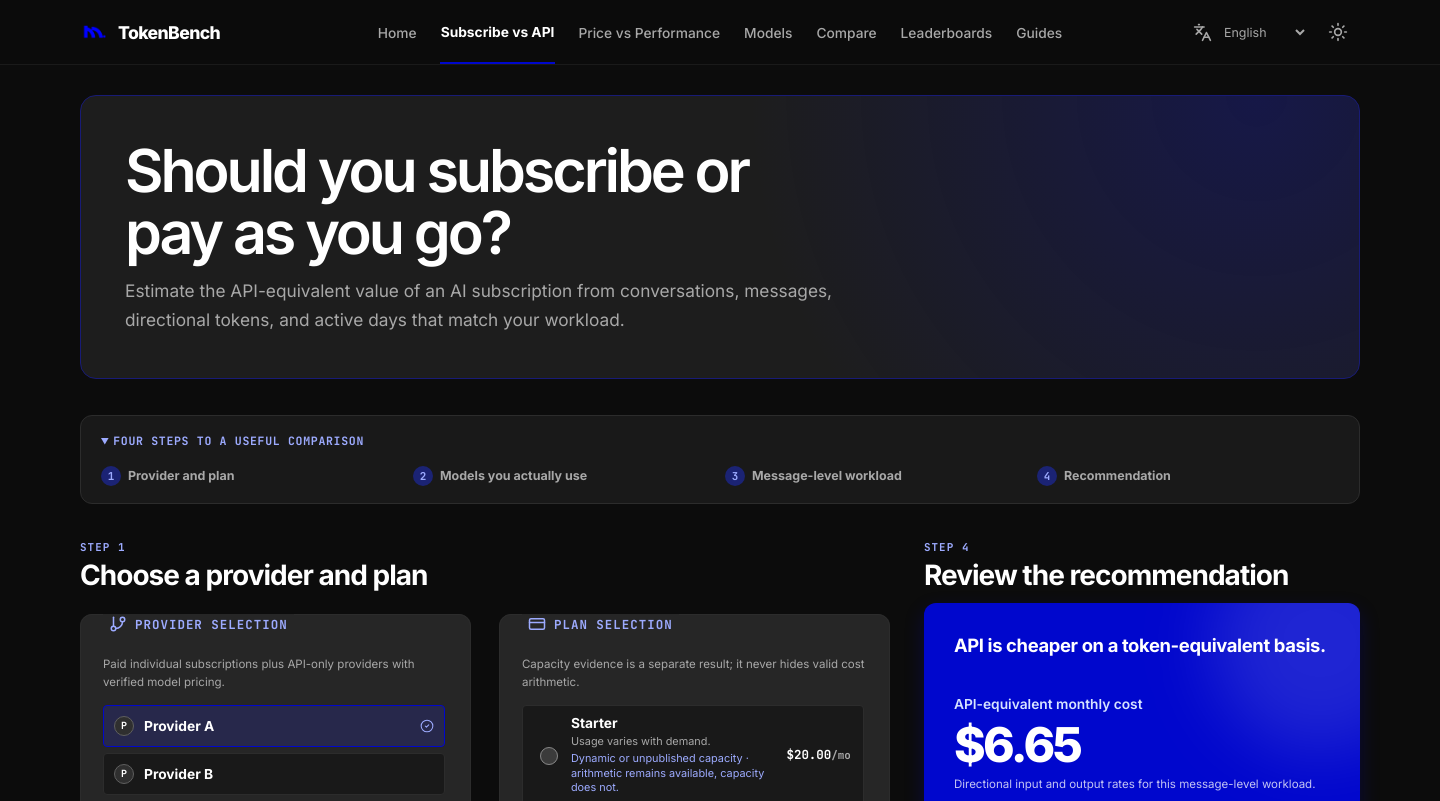
responsive calculator app shell › hydrates shared state once, preserves the URL, and lets the visitor change provider afterward
Expected: the heading "API-equivalent monthly cost" is shown, [954,696,1142,712]
Click the radio button labelled "Provider B" at (179, 774), box [103,753,445,795]
(page scrolled)
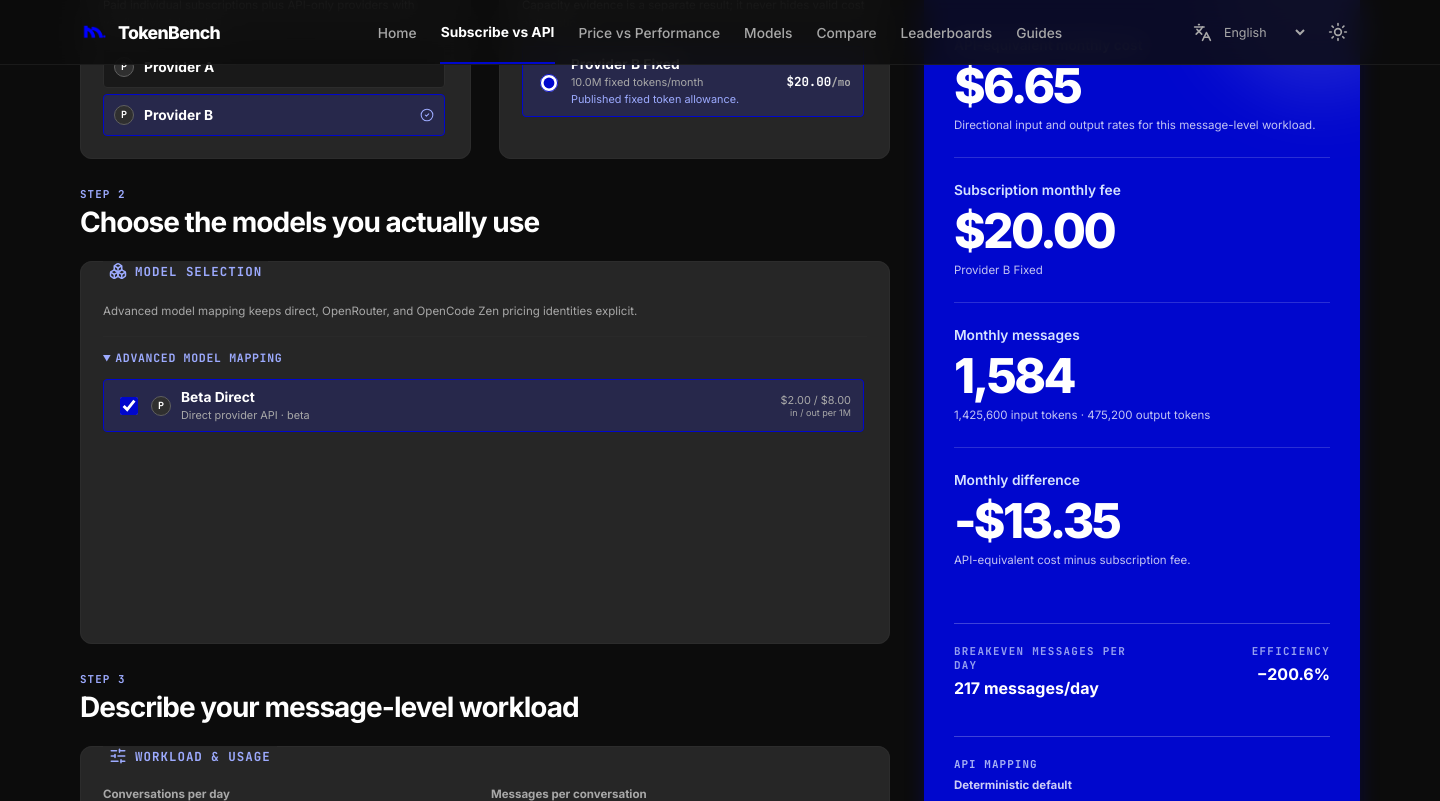
Expected: the checkbox labelled "Beta Direct" is checked, [120,397,138,415]
Now the radio button labelled "Provider B Fixed" is checked, box [540,74,558,92]
